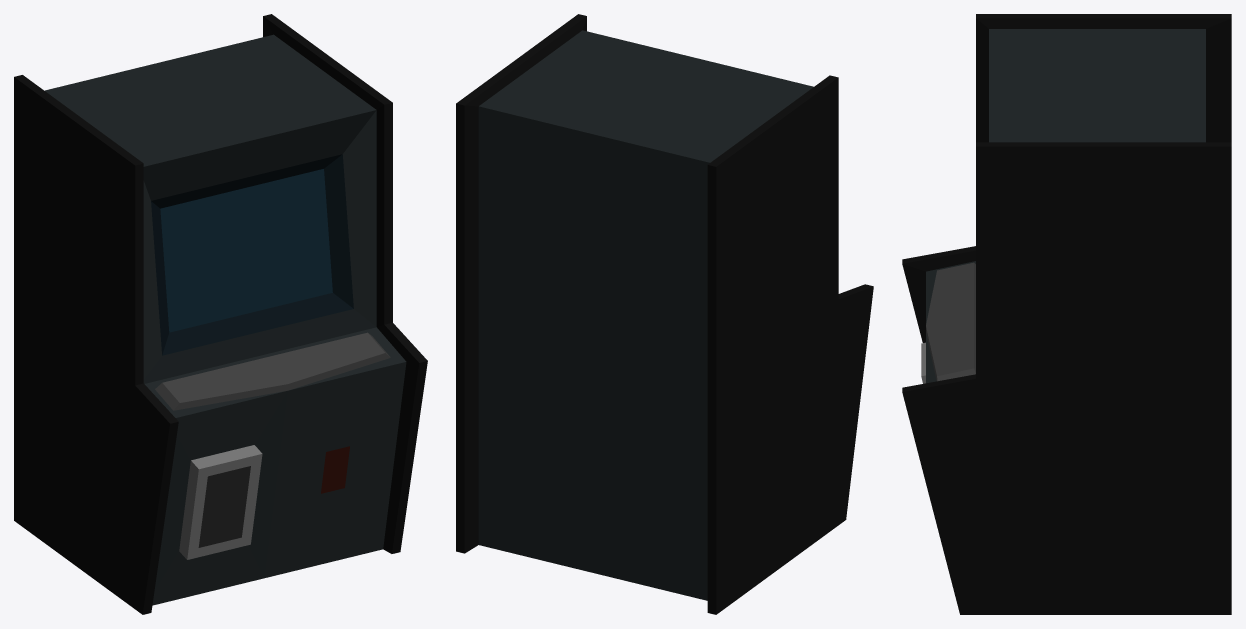
Rendered from GameConsole.glb.
The picture shows the model from 3 angles, left to right: view 1: azimuth 30°, elevation 25°; view 2: azimuth 150°, elevation 25°; view 3: azimuth 270°, elevation 25°; orthographic projection. The views are drawn at different scales.
Visible parts, largest first — view 1: Cube; view 2: Cube; view 3: Cube.
Boxes of the visible parts, box(x1,y1,x2,y2) form: Cube: box(14, 14, 427, 614); Cube: box(456, 14, 873, 614); Cube: box(902, 14, 1231, 614).
Bounding box in the file's own units: 1.16 × 1.9 × 1.21.
1 material, 1 textured.
